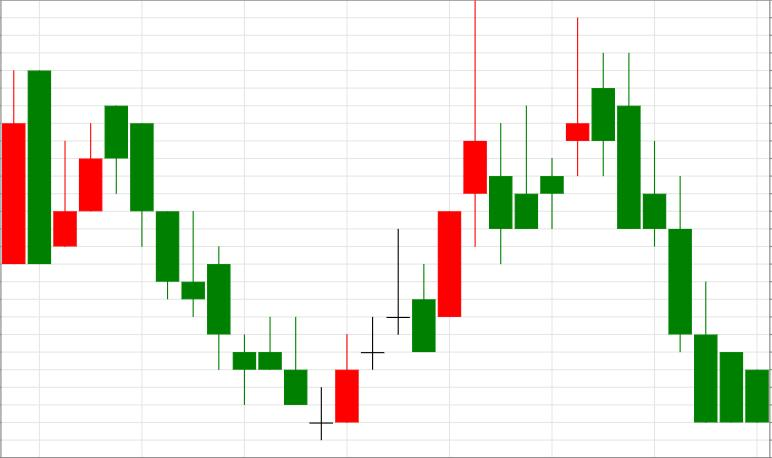morning_star_rise: (105, 106, 359, 439)
